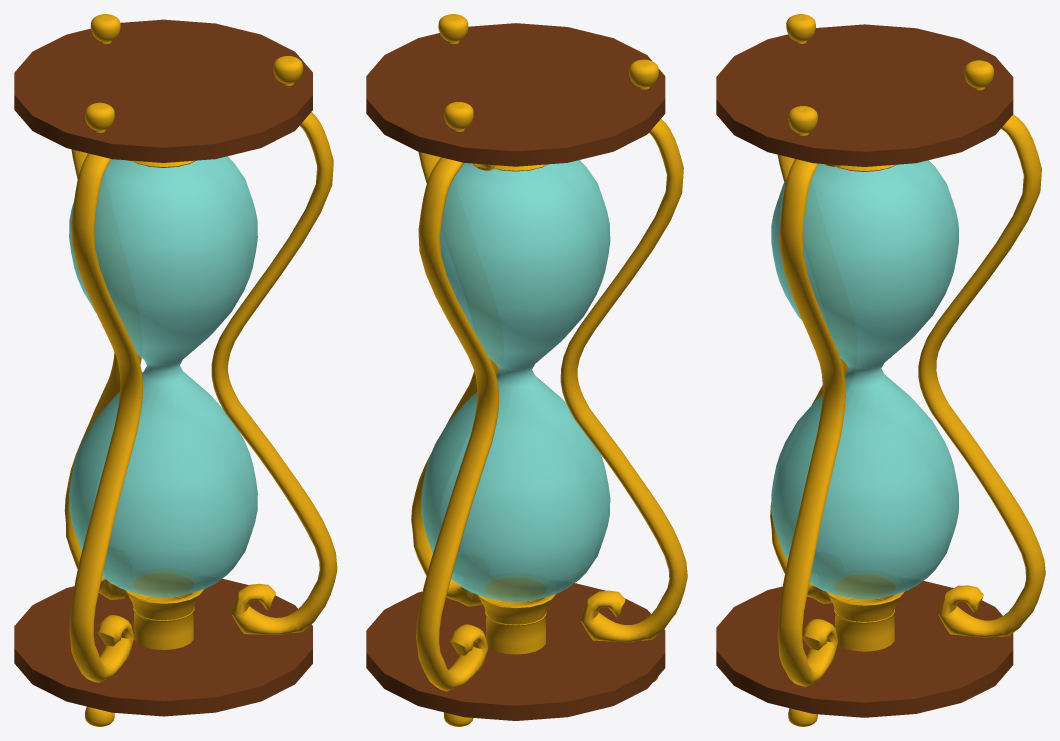
File: Hourglassfix.FBX
3 renders of one model, left to right at view 1: azimuth 30°, elevation 25°; view 2: azimuth 150°, elevation 25°; view 3: azimuth 270°, elevation 25°, orthographic.
Parts seen in each view (by area): view 1: Cone009, Cone010; view 2: Cone009, Cone010; view 3: Cone009, Cone010.
Part boxes in pixels (x1,y1,x2,y2): Cone009: [14, 14, 337, 726]; Cone010: [69, 156, 257, 597]; Cone009: [366, 14, 687, 726]; Cone010: [421, 160, 609, 602]; Cone009: [716, 14, 1045, 726]; Cone010: [771, 160, 958, 599].
Size of the model in its own units: 92.21 by 202 by 98.35.
